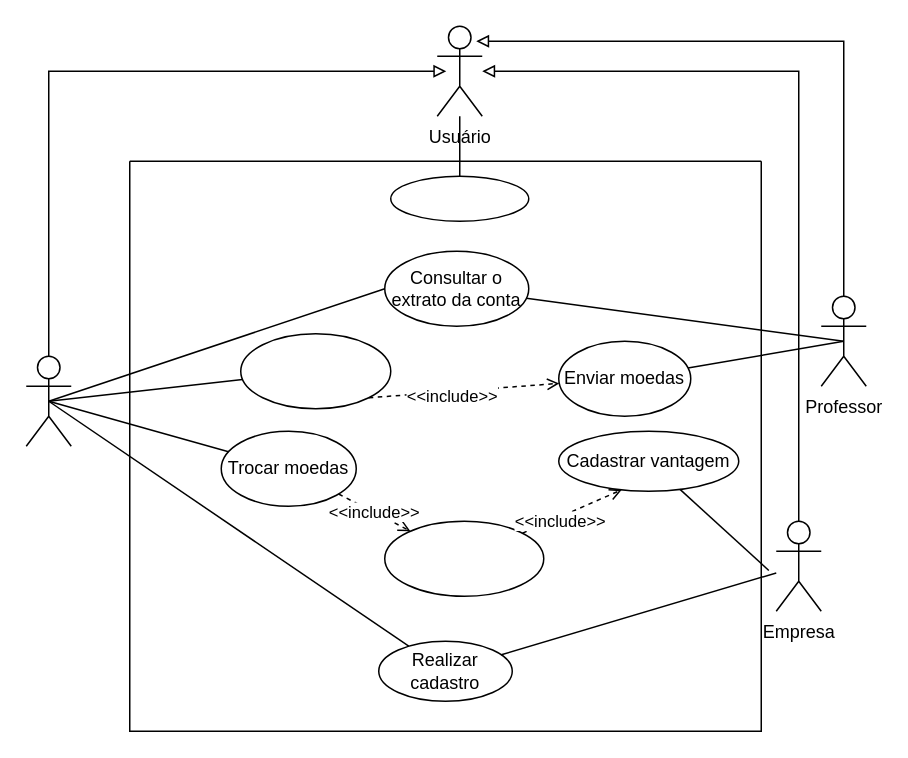
Image size: 908x758. Some labels were removed from this diagram. Each missing label, with the centre of its shape:
Aluno: the point at 48,400
Realizar login: the point at 459,198
Receber moedas: the point at 315,370
Selecionar vantagem: the point at 463,558
